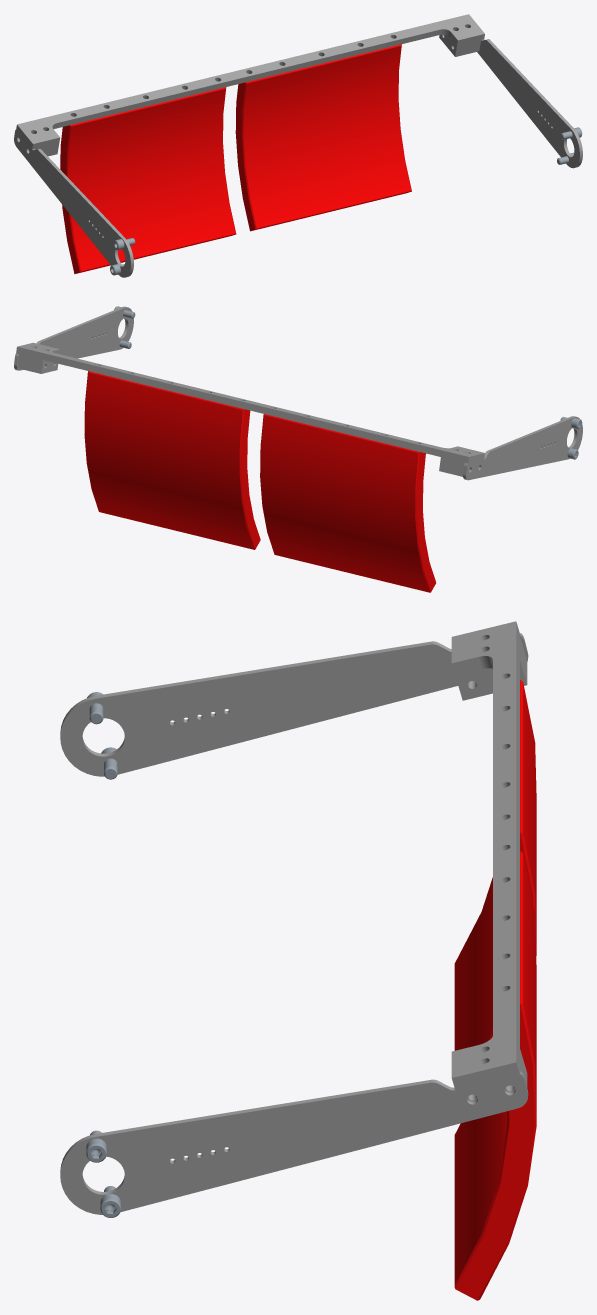
3 views of the same model, one above another, from view 1: azimuth 30°, elevation 25°; view 2: azimuth 150°, elevation 25°; view 3: azimuth 270°, elevation 25° (orthographic). The views are drawn at different scales.
Visible parts, largest first — view 1: PEW-26016-001 (×2), PEW-26017-001, PEW-25005-001 (×2), PEW-26019-001; view 2: PEW-26016-001 (×2), PEW-25005-001 (×2), PEW-26017-001, PEW-26019-001; view 3: PEW-25005-001 (×2), PEW-26016-001 (×2), PEW-26017-001, PEW-26019-001.
Part boxes in pixels (x1,y1,x2,y2): PEW-26016-001 (×2): (60, 44, 411, 274); PEW-26017-001: (16, 14, 484, 149); PEW-25005-001 (×2): (14, 39, 582, 277); PEW-26019-001: (439, 34, 480, 56); PEW-26016-001 (×2): (84, 371, 436, 592); PEW-25005-001 (×2): (14, 306, 582, 480); PEW-26017-001: (16, 342, 484, 463); PEW-26019-001: (17, 354, 58, 373); PEW-25005-001 (×2): (60, 633, 528, 1214); PEW-26016-001 (×2): (454, 680, 536, 1300); PEW-26017-001: (451, 621, 519, 1089); PEW-26019-001: (455, 637, 527, 700).
Size of the model in its own units: 0.4884 by 0.1553 by 0.2171.
